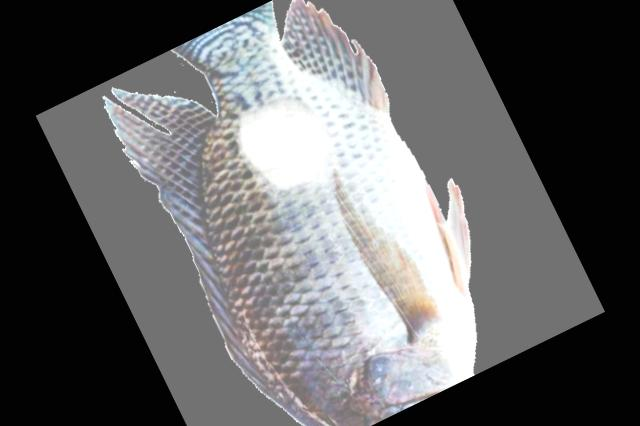Fungal Disease -Saprolegniasis-: (105, 0, 476, 426)
